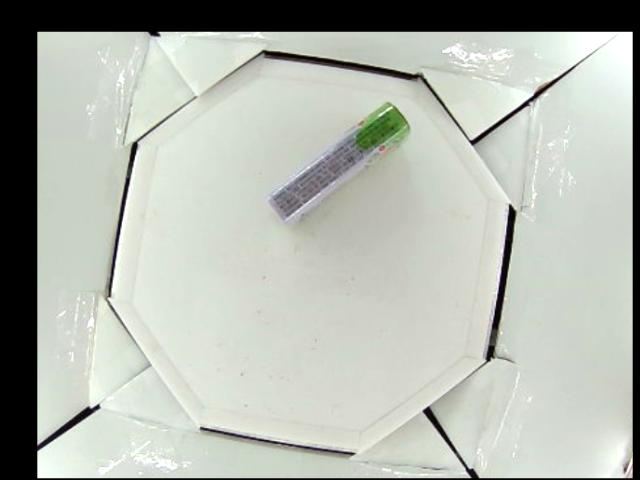Bottle: (268, 100, 415, 226)
